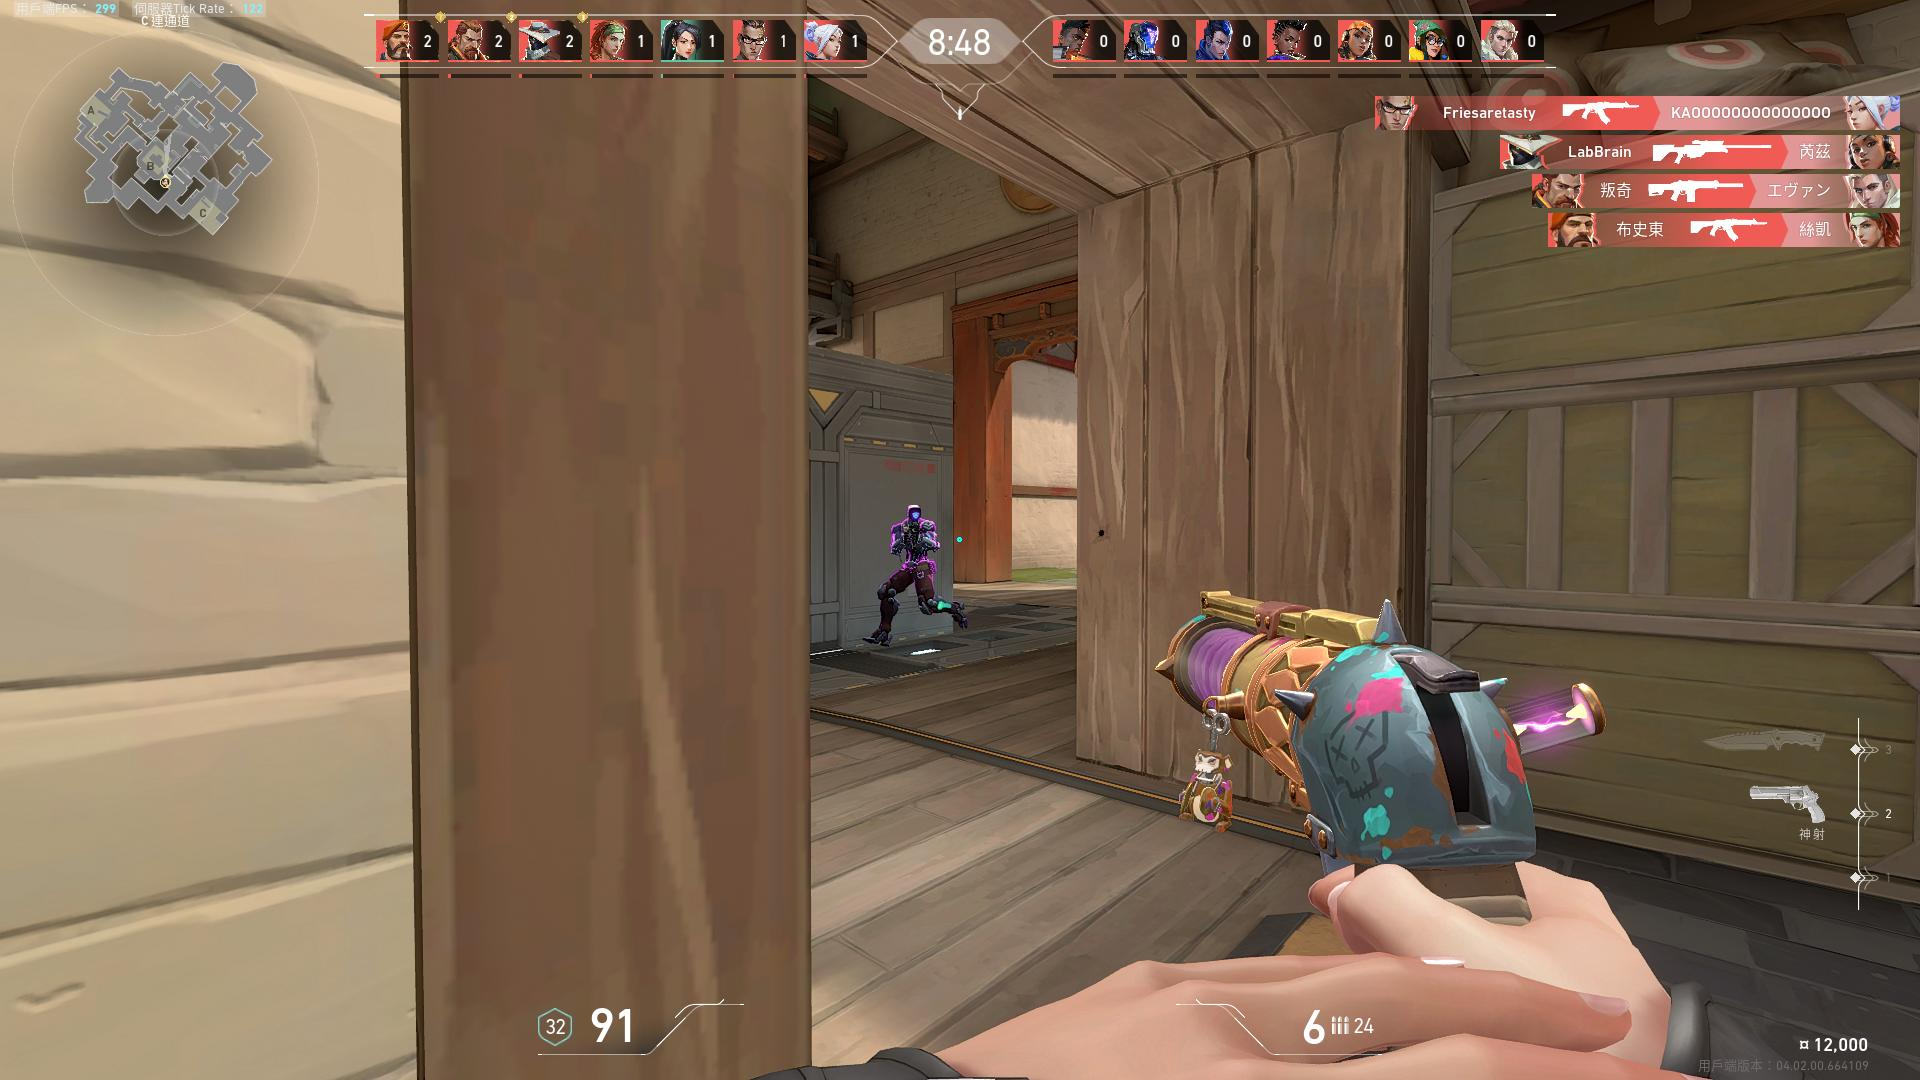enemyBody: (909, 524, 924, 568)
enemyHead: (909, 508, 920, 522)
